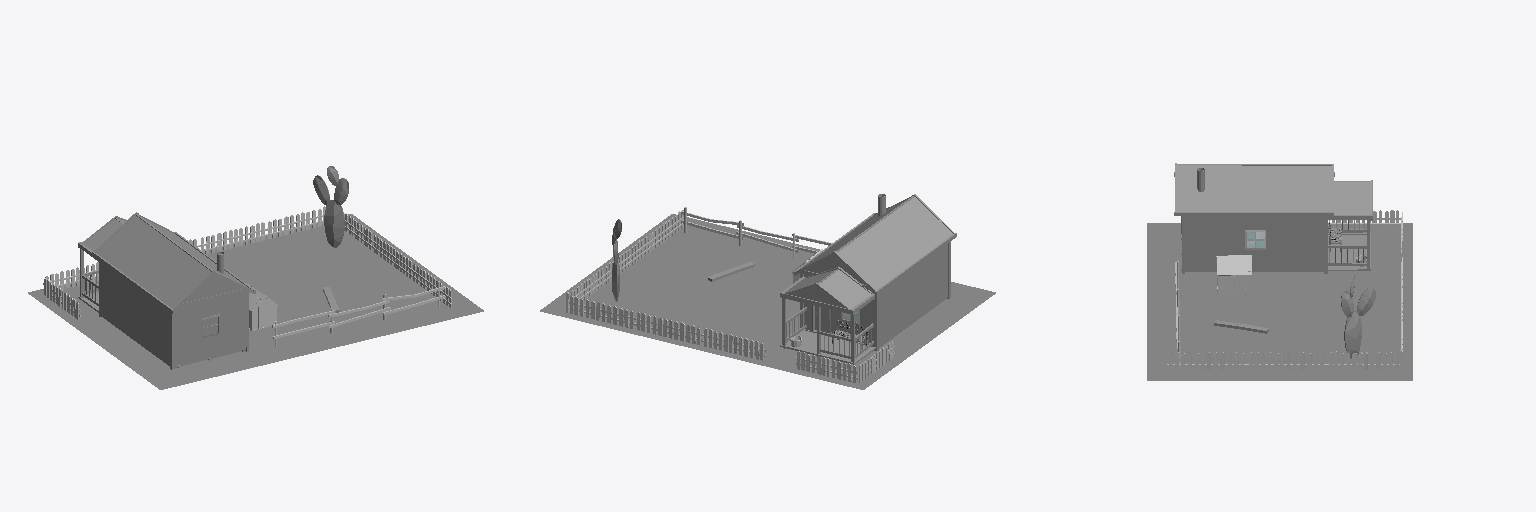
3 renders of one model, left to right at view 1: azimuth 30°, elevation 25°; view 2: azimuth 150°, elevation 25°; view 3: azimuth 270°, elevation 25°, orthographic.
Visible parts, largest first — view 1: west_town_finish, Plane015, Plane006, Plane007, Plane020, Plane004, Plane009, Plane003, Plane001, Plane017, Plane008, Plane013 (+8 smaller); view 2: west_town_finish, Plane017, Plane015, Plane008, Plane004, Plane003, Plane002, Plane018, Plane001, Plane007, Plane009, Plane013 (+8 smaller); view 3: west_town_finish, Plane017, Plane007, Plane018, Plane006, Plane015, Plane003, Plane008, Plane004, doghouse0908, Plane024, Plane019 (+10 smaller).
Boxes of the visible parts, <box> form: west_town_finish: <box>43,166,451,369</box>; Plane015: <box>278,251,361,288</box>; Plane006: <box>249,326,322,363</box>; Plane007: <box>290,314,373,350</box>; Plane020: <box>248,227,329,263</box>; Plane004: <box>309,276,395,311</box>; Plane009: <box>128,358,213,389</box>; Plane003: <box>346,301,430,337</box>; Plane001: <box>396,287,483,323</box>; Plane017: <box>234,265,308,298</box>; Plane008: <box>271,289,340,325</box>; Plane013: <box>329,238,417,275</box>; west_town_finish: <box>566,194,956,382</box>; Plane017: <box>681,289,767,326</box>; Plane015: <box>627,276,713,312</box>; Plane008: <box>714,267,792,301</box>; Plane004: <box>662,252,742,288</box>; Plane003: <box>694,227,781,263</box>; Plane002: <box>606,238,694,275</box>; Plane018: <box>736,302,799,337</box>; Plane001: <box>640,214,727,250</box>; Plane007: <box>750,240,819,275</box>; Plane009: <box>933,282,995,316</box>; Plane013: <box>573,263,658,299</box>; west_town_finish: <box>1167,163,1402,370</box>; Plane017: <box>1280,302,1346,328</box>; Plane007: <box>1147,302,1213,328</box>; Plane018: <box>1280,276,1346,301</box>; Plane006: <box>1147,276,1213,301</box>; Plane015: <box>1280,329,1346,354</box>; Plane003: <box>1147,329,1213,354</box>; Plane008: <box>1213,302,1279,328</box>; Plane004: <box>1213,329,1279,354</box>; doghouse0908: <box>1216,255,1251,294</box>; Plane024: <box>1346,276,1412,301</box>; Plane019: <box>1353,302,1412,328</box>.
Size of the model in its own units: 0.9193 by 0.271 by 0.655.
11 materials, 2 textured.